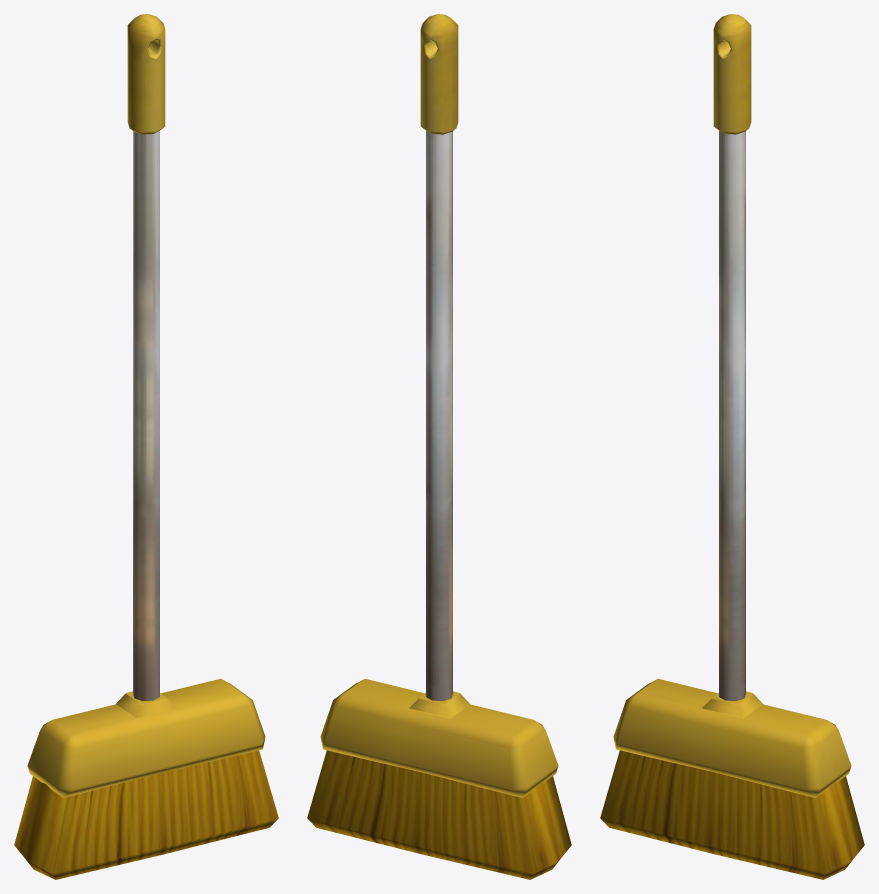
The model's file is mesh012_Broom.fbx.
3 views of the same model, side by side, from view 1: azimuth 30°, elevation 25°; view 2: azimuth 150°, elevation 25°; view 3: azimuth 330°, elevation 25° (orthographic).
Parts seen in each view (by area): view 1: broom; view 2: broom; view 3: broom.
Part boxes in pixels (x1,y1,x2,y2): broom: (14, 14, 278, 879); broom: (307, 14, 571, 879); broom: (600, 14, 864, 879).
Size of the model in its own units: 2.36 by 7.82 by 0.7198.
